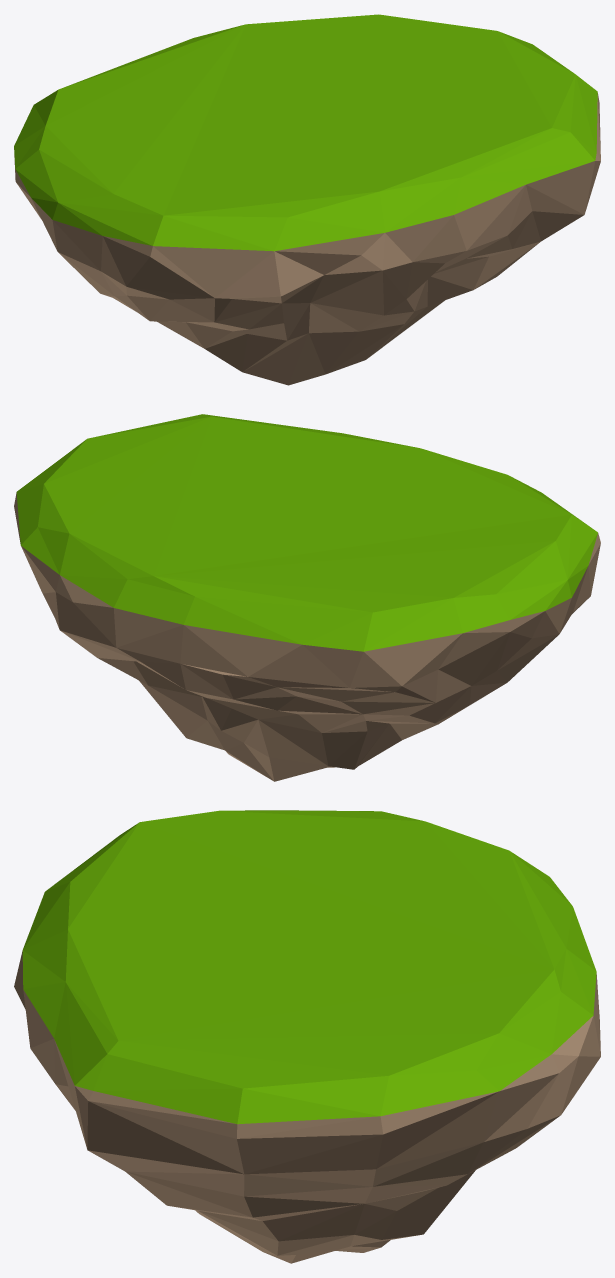
The model's file is Platform.fbx.
3 renders of one model, top to bottom at view 1: azimuth 30°, elevation 25°; view 2: azimuth 150°, elevation 25°; view 3: azimuth 270°, elevation 25°, orthographic. The views are drawn at different scales.
Visible parts, largest first — view 1: polySurface1; view 2: polySurface1; view 3: polySurface1.
Part boxes in pixels (<box>): polySurface1: <box>14,14,600,385</box>; polySurface1: <box>14,414,600,781</box>; polySurface1: <box>14,810,600,1263</box>.
Size of the model in its own units: 22.64 by 10.55 by 18.14.
